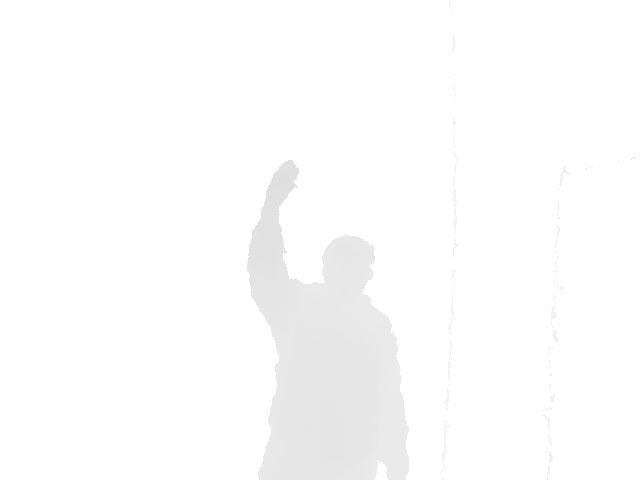hand: (261, 159, 300, 208)
head: (320, 235, 375, 298)
person: (245, 159, 412, 480)
